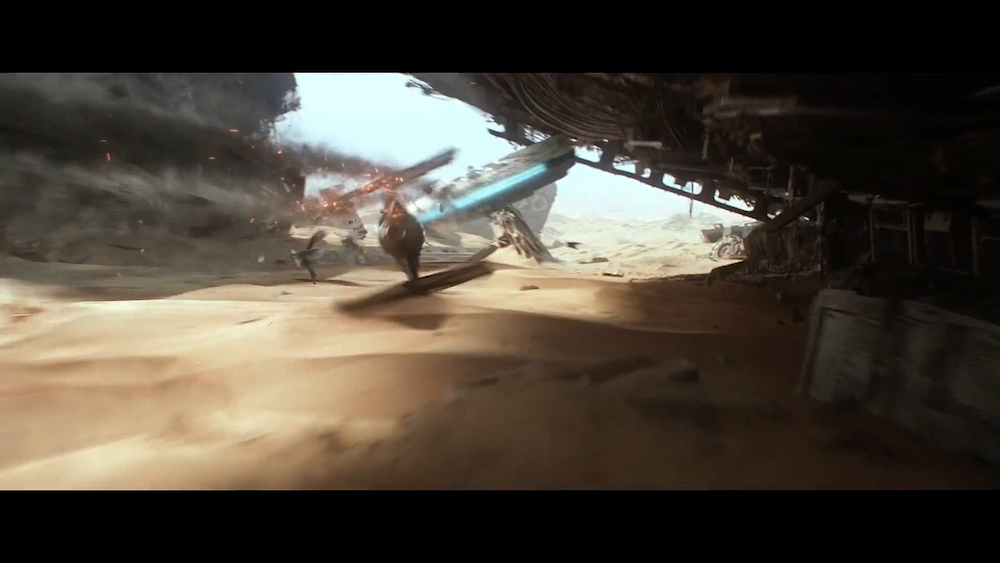Millennium Falcon: (381, 131, 578, 245)
Tie Fighter: (308, 148, 498, 320)
